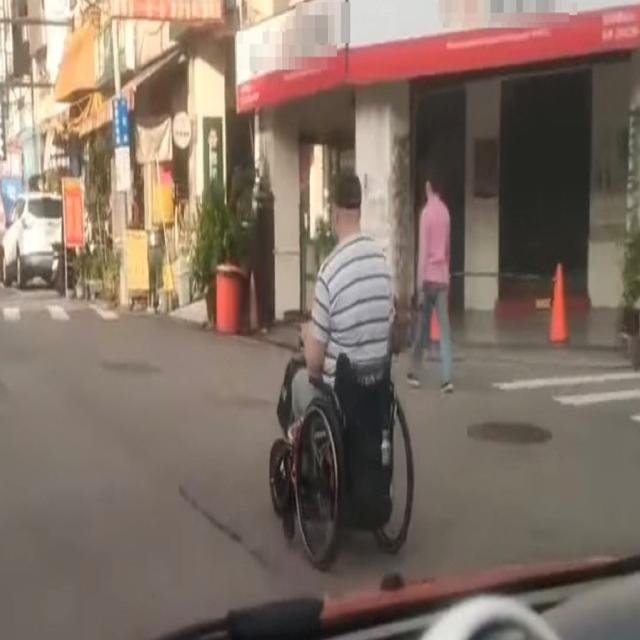wheelchairs: (264, 334, 417, 572)
